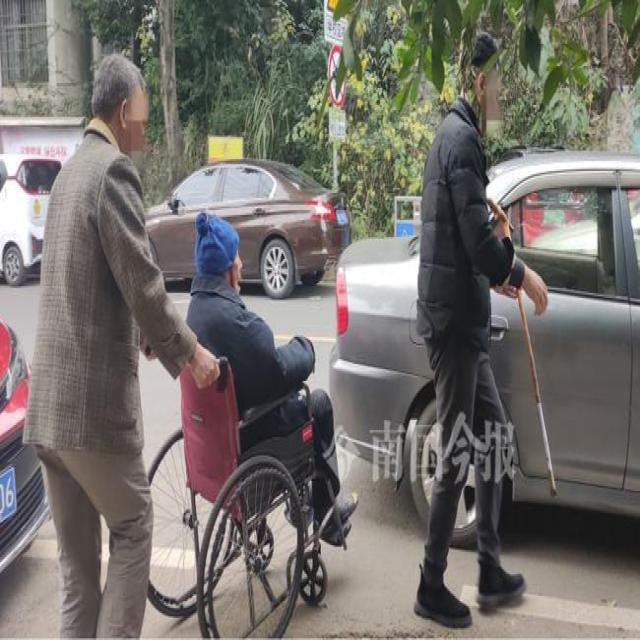wheelchairs: (132, 331, 353, 639)
